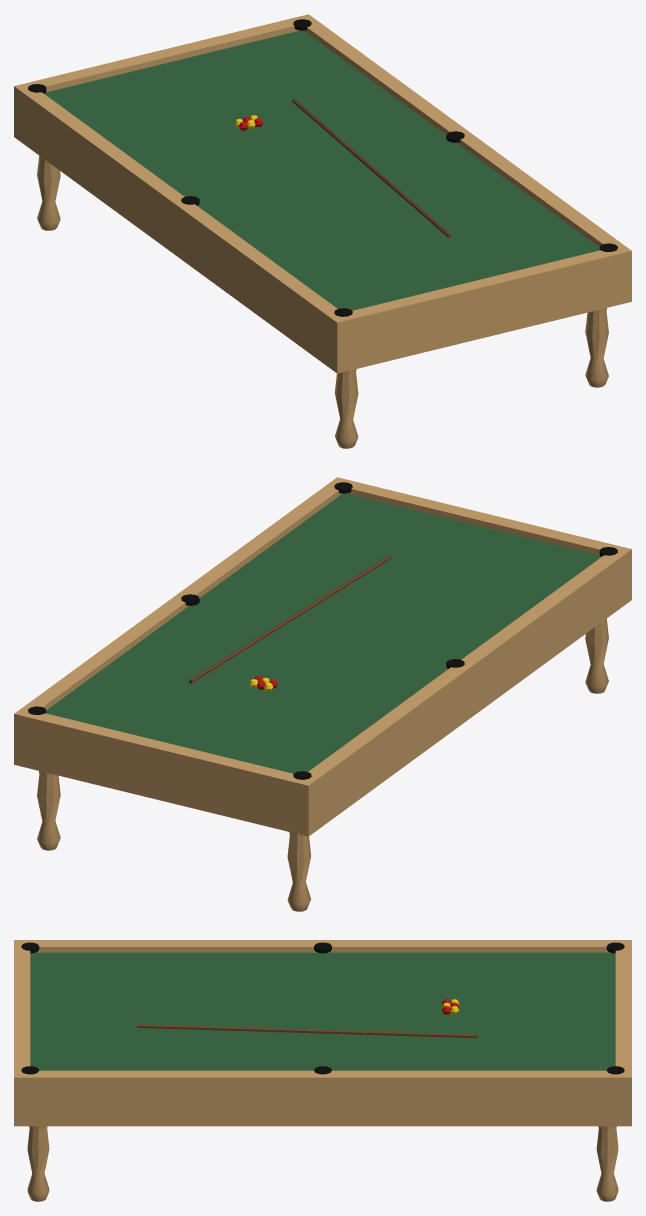
The model's file is hospitality.pub.snooker_table.glb.
3 renders of one model, top to bottom at view 1: azimuth 30°, elevation 25°; view 2: azimuth 150°, elevation 25°; view 3: azimuth 270°, elevation 25°, orthographic. The views are drawn at different scales.
Parts seen in each view (by area): view 1: main__fabric_green, main__glulam, main__plastic_black, main__hardwood; view 2: main__fabric_green, main__glulam, main__hardwood, main__plastic_black; view 3: main__fabric_green, main__glulam, main__hardwood, main__plastic_black.
Part boxes in pixels (x1,y1,x2,y2): main__fabric_green: (44,30,599,310); main__glulam: (14,14,631,448); main__plastic_black: (28,19,617,316); main__hardwood: (292,98,450,237); main__fabric_green: (46,493,601,773); main__glulam: (14,477,631,911); main__hardwood: (189,555,391,683); main__plastic_black: (28,482,617,779); main__fabric_green: (30,952,615,1070); main__glulam: (14,940,631,1201); main__hardwood: (137,1024,477,1038); main__plastic_black: (21,942,624,1074).
Bounding box in the file's own units: 2 × 0.908 × 3.8.
